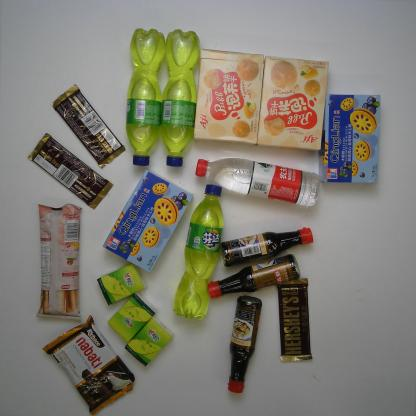Chocolate: (25, 132, 113, 210), (50, 84, 126, 171), (276, 274, 314, 362)
Dessert: (99, 168, 195, 274), (40, 316, 140, 416), (254, 50, 332, 154), (190, 46, 267, 145), (36, 203, 86, 320), (319, 92, 382, 184)
Drink: (172, 183, 225, 320), (194, 155, 320, 208), (160, 28, 206, 170), (126, 26, 167, 167)
Seasoner: (204, 254, 301, 300), (221, 227, 316, 269), (226, 294, 263, 394)
Tissue: (107, 291, 157, 344), (124, 318, 174, 368), (96, 262, 146, 307)
